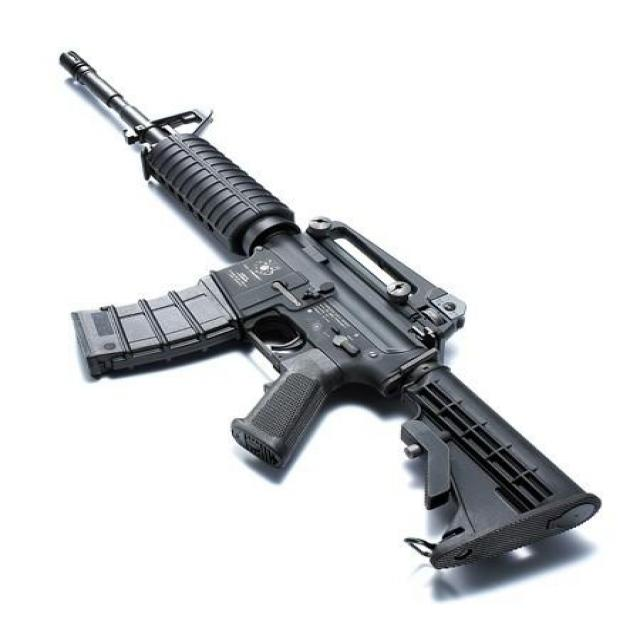rifle: (51, 51, 600, 569)
